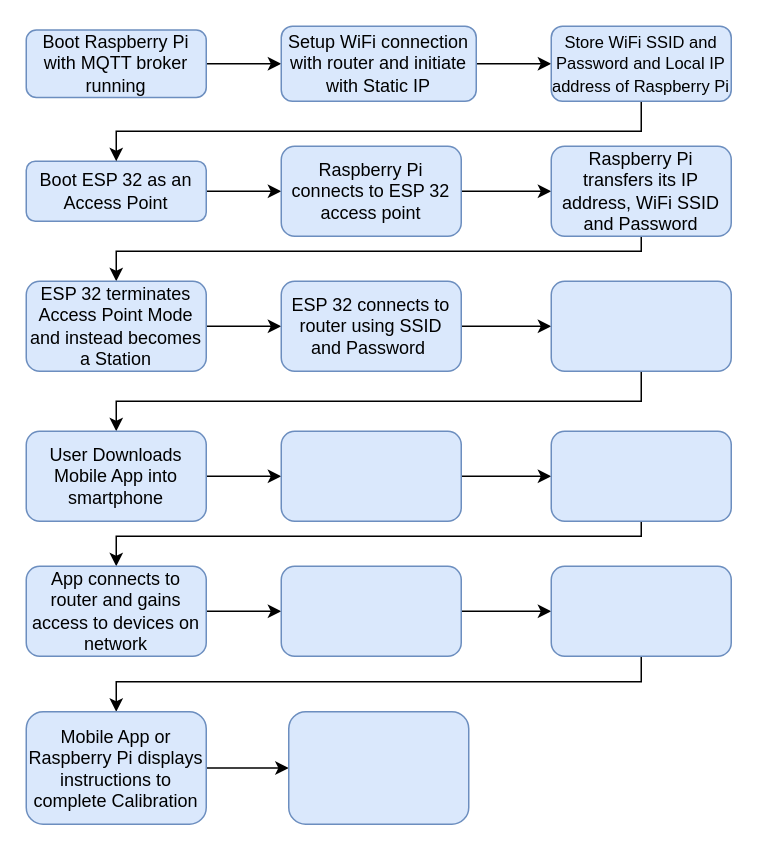
Image size: 758x851. Some labels were removed from this diagram. The shapes that lost their labels are listed below. From the top down, each one's centre as x and y in pixels, then its label:
At point (640, 325): "ESP 32 connects to Raspberry Pi MQTT broker using IP addrress".
At point (370, 475): "Raspberry Pi displays Router Public IP Address".
At point (640, 475): "User enters Router IP address in the Mobile App".
At point (370, 610): "Mobile App connects to Raspberry Pi MQTT broker In the Local Network".
At point (640, 610): "User starts sensor calibration process through mobile app or Raspberry Pi".
At point (378, 767): "ESP 32 Bot is ready to operate".
